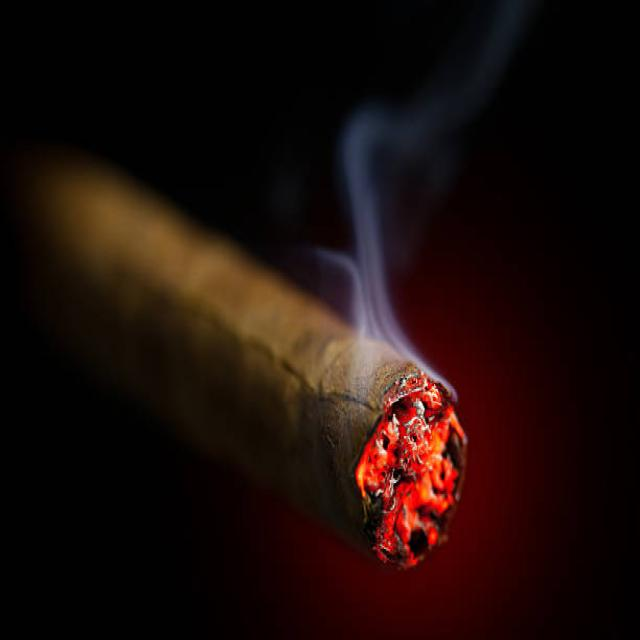Cigarette: (16, 144, 468, 568)
